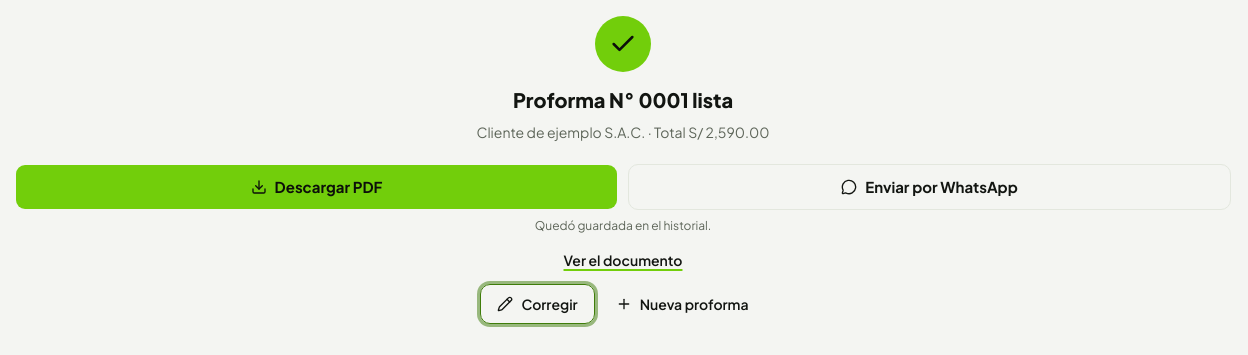
it: ProformaReady › con WhatsApp vinculado, la envía sin descargarla ni abrir el chat
Click the button "Enviar por WhatsApp": [930, 187] box [628,164,1231,210]
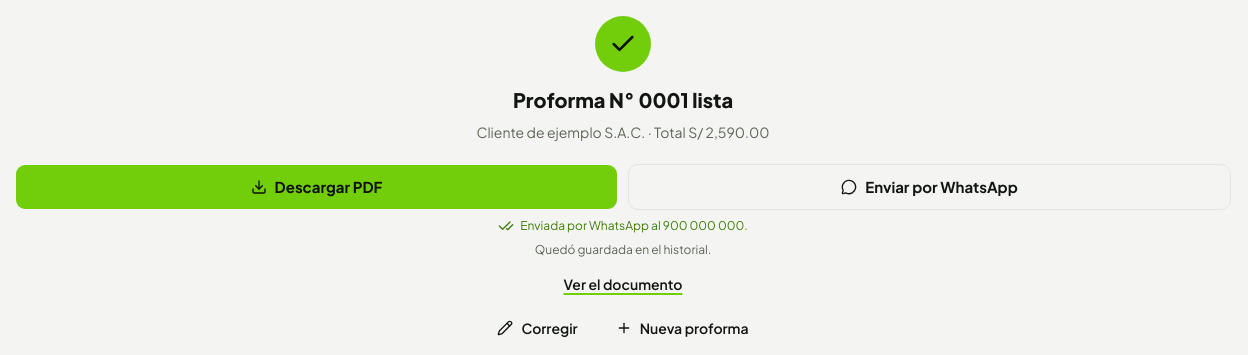
Expected: the text "Enviada por WhatsApp al 900 000 000." is shown, [498,218,748,234]
